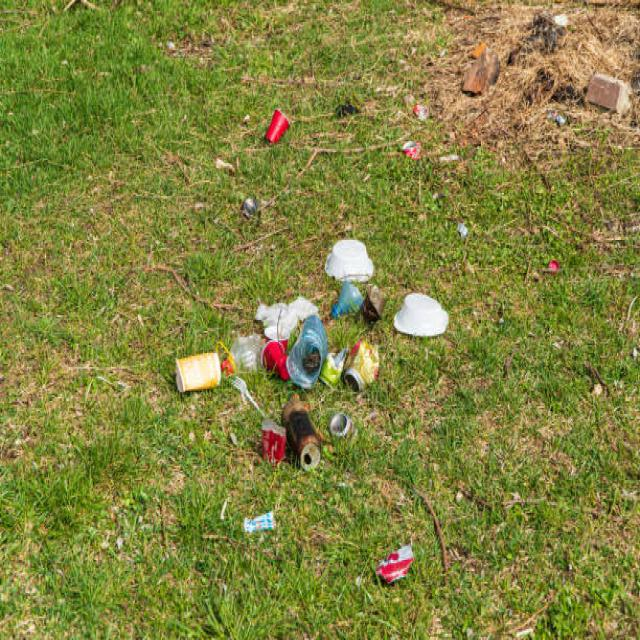metal: (263, 404, 325, 470)
plastic: (184, 273, 329, 383), (395, 286, 450, 340), (324, 237, 374, 278)
